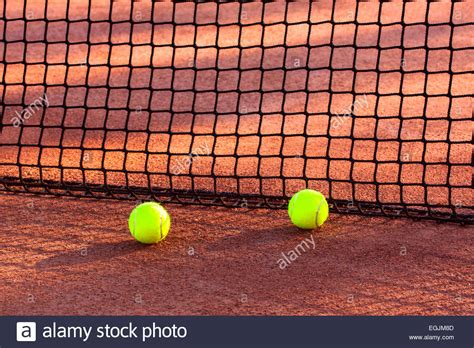tennis_ball: (128, 202, 170, 243), (287, 188, 329, 228)
